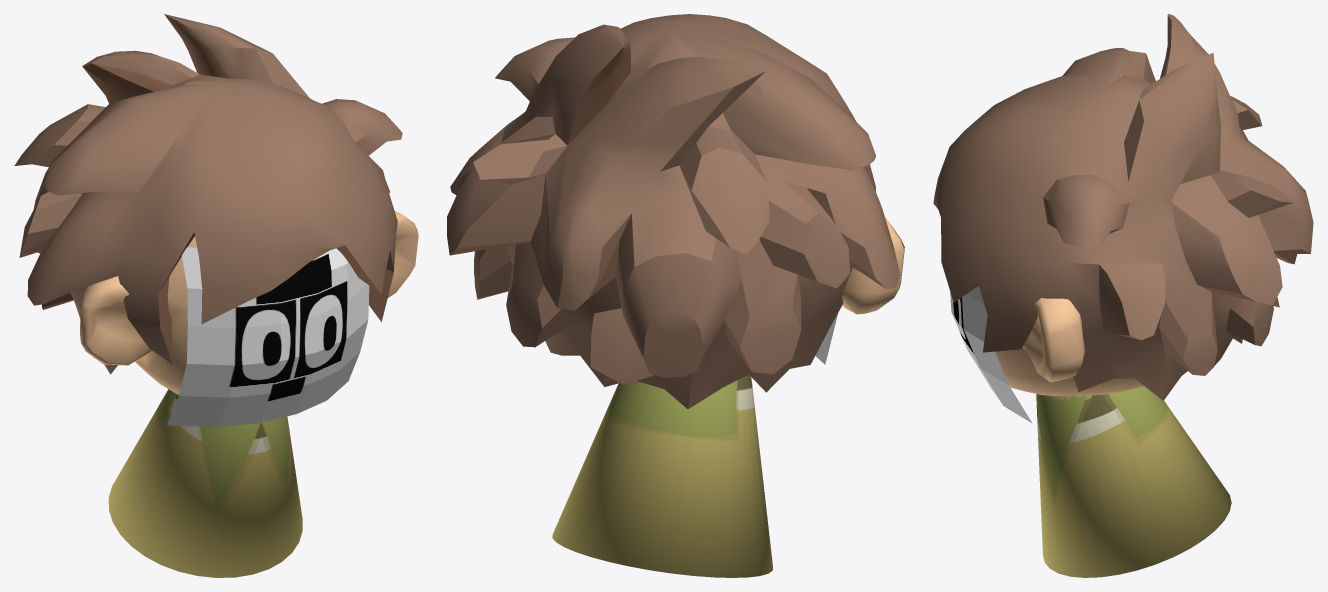
The model's file is human3.fbx.
3 renders of one model, left to right at view 1: azimuth 30°, elevation 25°; view 2: azimuth 150°, elevation 25°; view 3: azimuth 270°, elevation 25°, orthographic. The views are drawn at different scales.
Parts seen in each view (by area): view 1: Hair03, Body, face01, Head; view 2: Hair03, Body, Head; view 3: Hair03, Body, Head, face01.
Boxes of the visible parts, bbox=[...] form: Hair03: bbox=[14, 14, 402, 374]; Body: bbox=[108, 389, 302, 577]; face01: bbox=[167, 247, 369, 427]; Head: bbox=[80, 211, 418, 394]; Hair03: bbox=[447, 14, 900, 408]; Body: bbox=[552, 374, 772, 577]; Head: bbox=[842, 217, 904, 314]; Hair03: bbox=[933, 14, 1313, 400]; Body: bbox=[1036, 386, 1231, 577]; Head: bbox=[995, 298, 1143, 395]; face01: bbox=[950, 285, 1032, 423].
Size of the model in its own units: 293 by 375 by 258.
